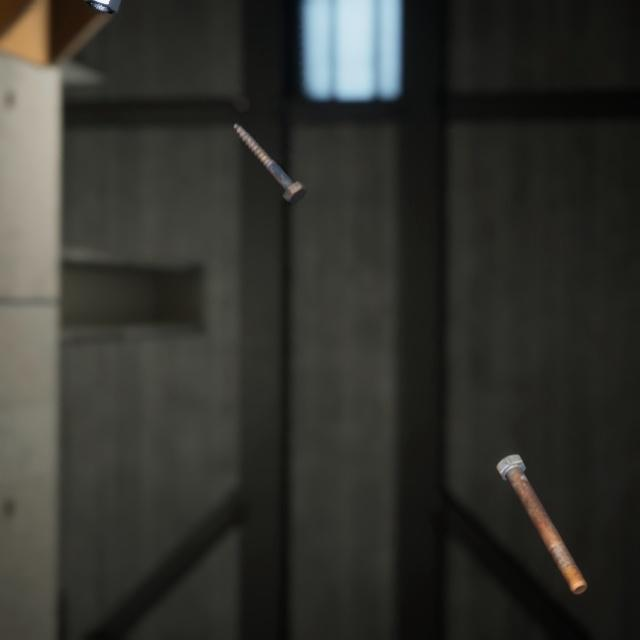bolt: (491, 428, 591, 576), (229, 104, 311, 194)
